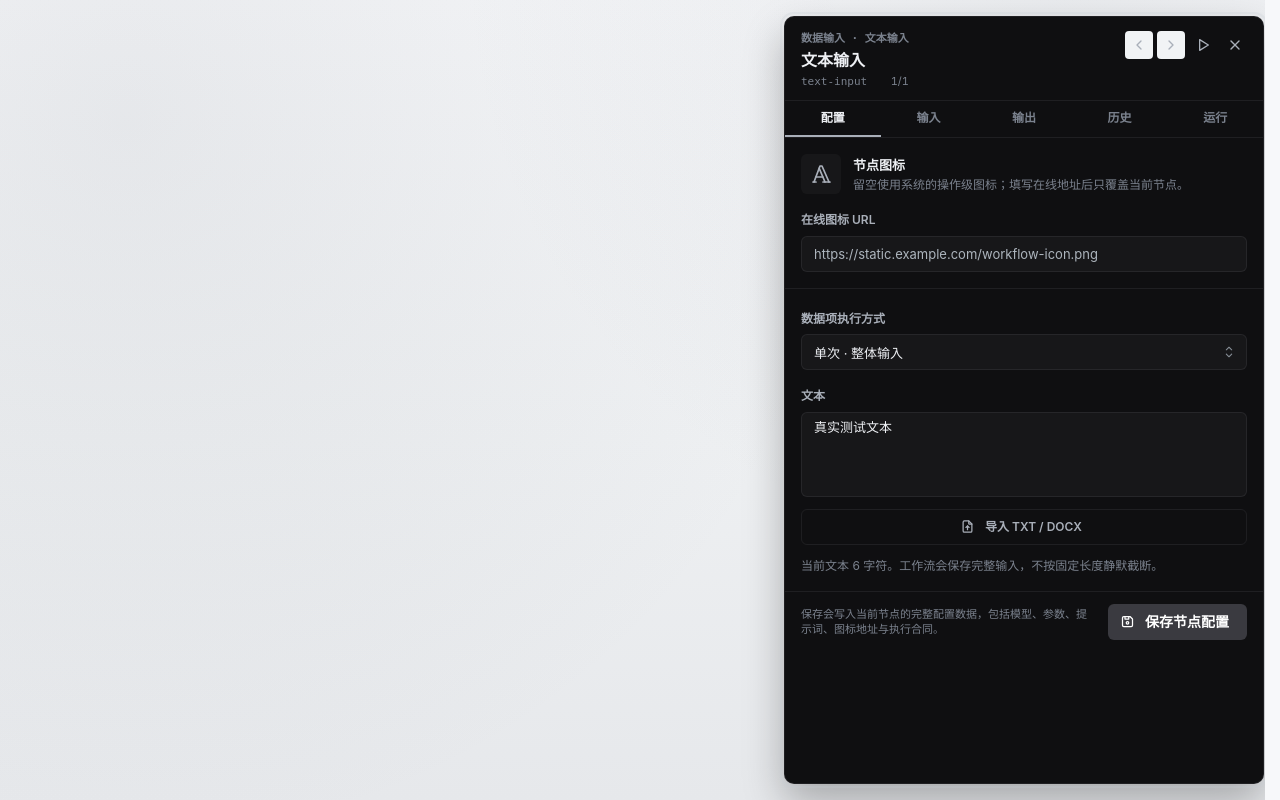
Test: WorkflowNodeInspectorPanel › loads the latest persisted node output after a Studio refresh
Click the tab "输出" at (1024, 119), box [976,101,1072,137]
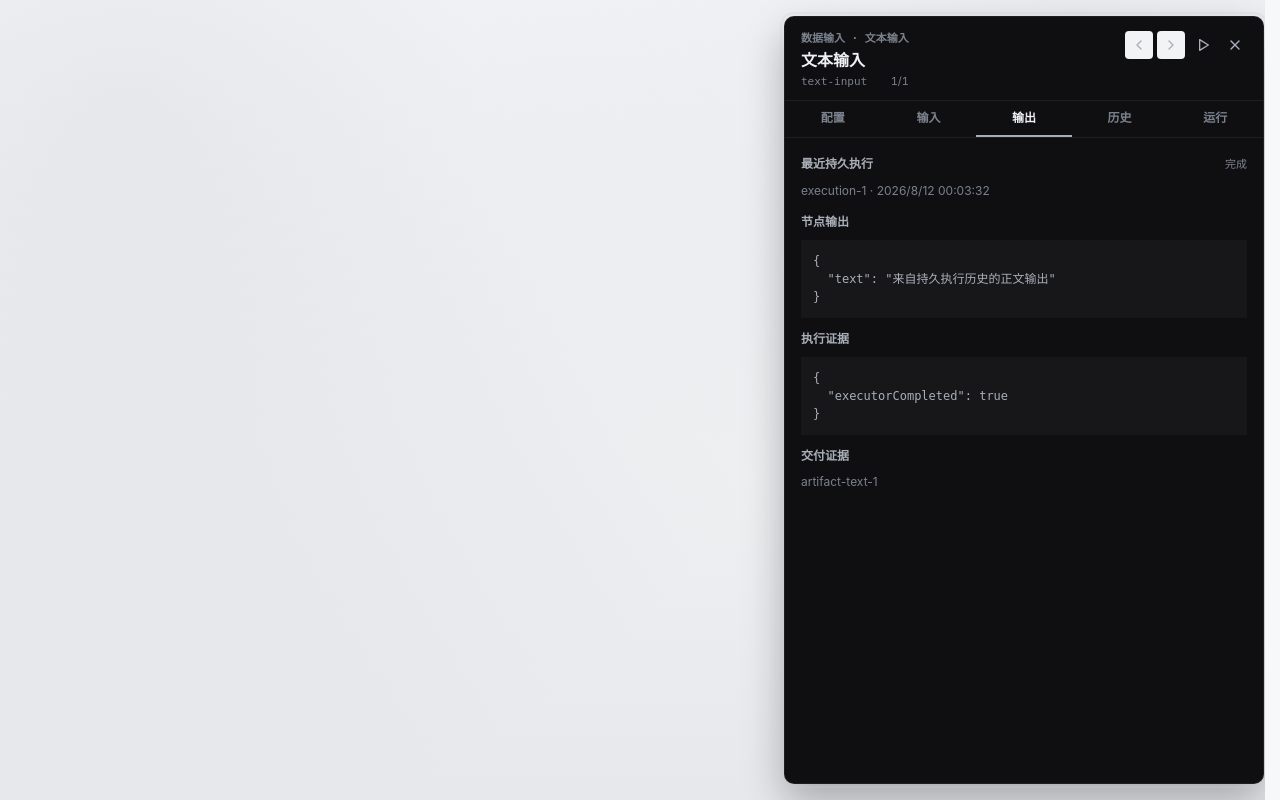
Expected: the element "最近持久执行" shows "完成", [1225,156,1247,170]
Expected: the element "节点输出" shows "来自持久执行历史的正文输出", [813,254,1056,304]
Expected: the element "执行证据" shows "\"executorCompleted\": true", [813,371,1008,421]
